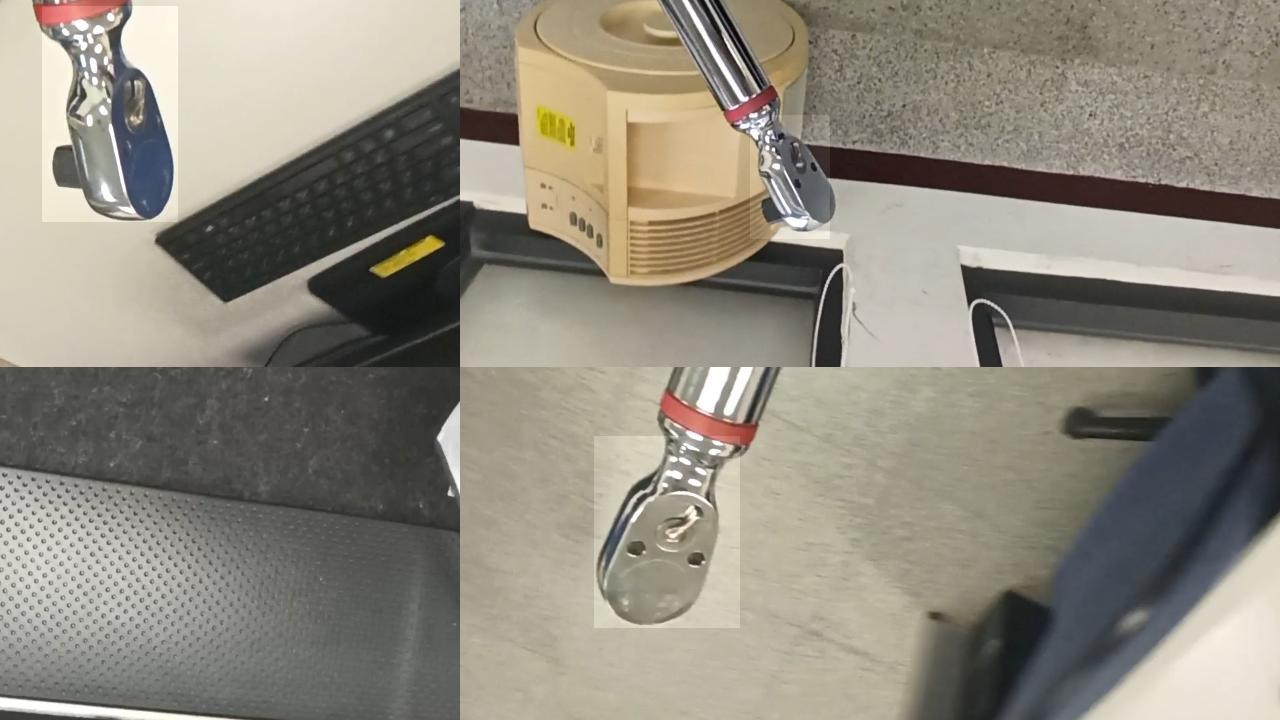Tool: (41, 5, 177, 222), (593, 435, 739, 628), (749, 114, 829, 238)
